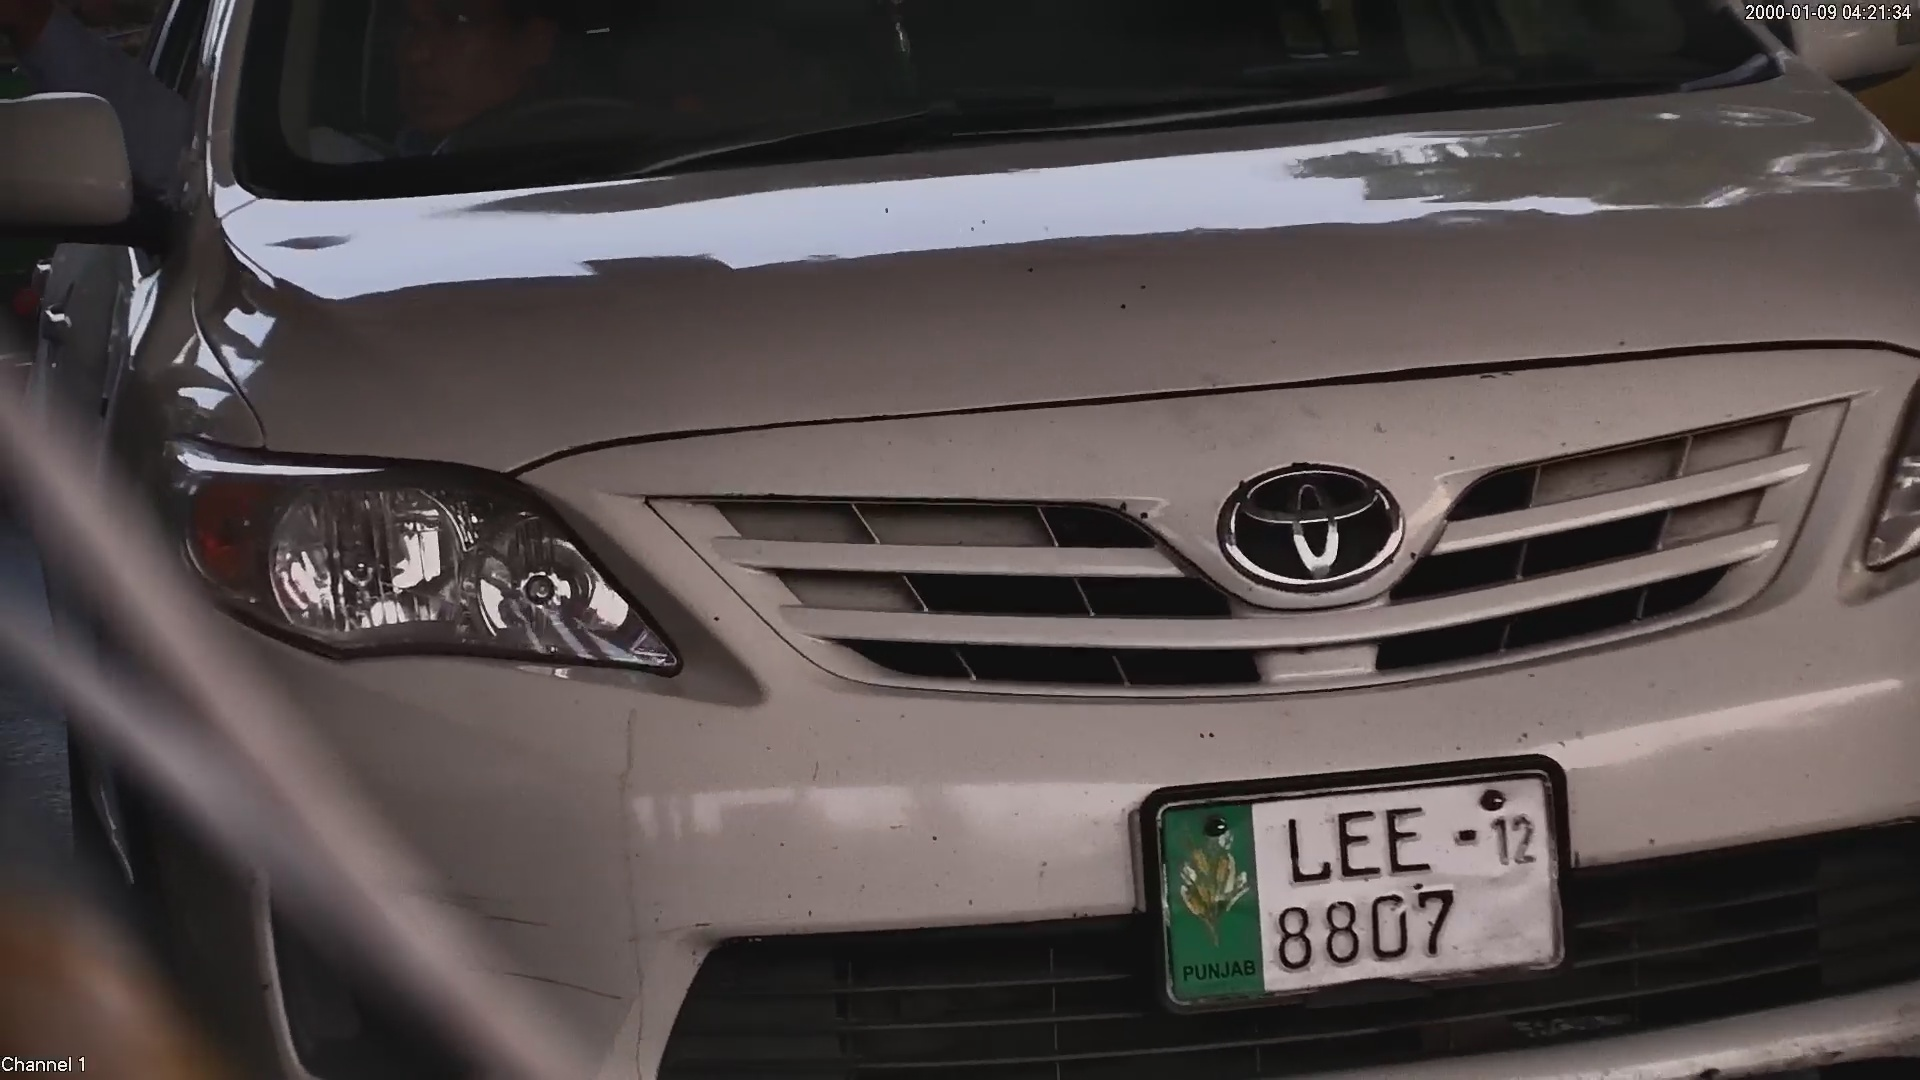Number_Plate: (1119, 736, 1597, 1012)
Undefined: (180, 442, 689, 701), (1193, 446, 1423, 596)
